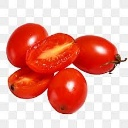tomato: (25, 33, 80, 72), (71, 34, 123, 75), (6, 21, 49, 67), (48, 69, 88, 113), (7, 68, 52, 98)
